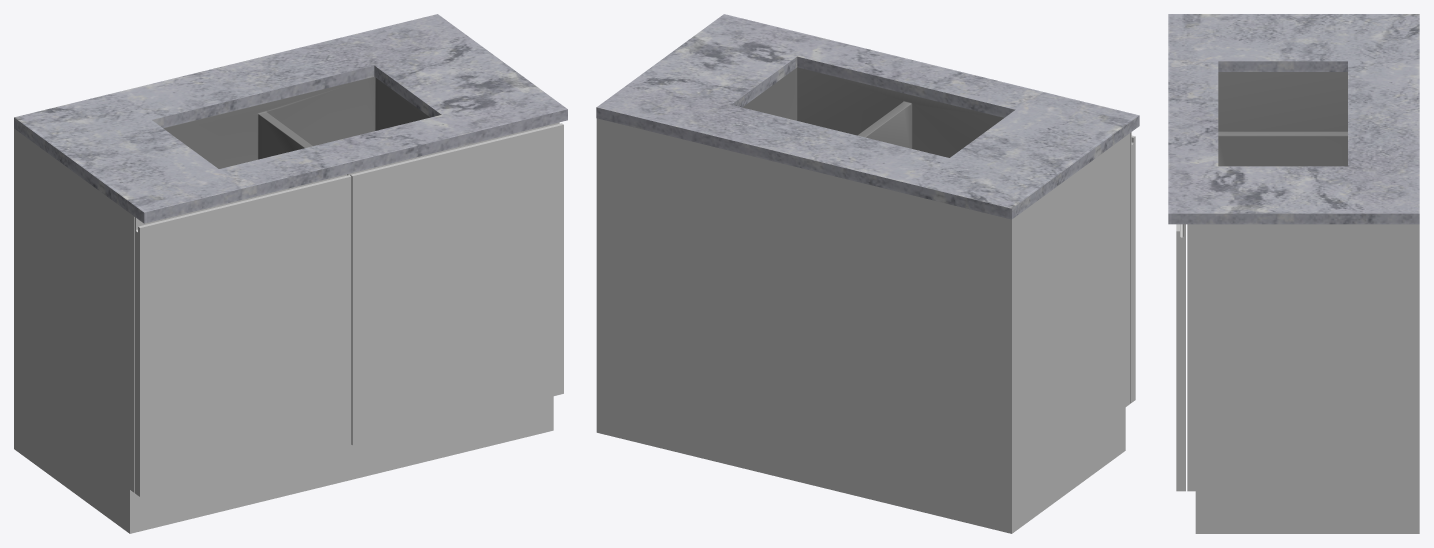
The model's file is kitchen_sink_1200.glb.
3 views of the same model, side by side, from view 1: azimuth 30°, elevation 25°; view 2: azimuth 150°, elevation 25°; view 3: azimuth 270°, elevation 25° (orthographic). The views are drawn at different scales.
Visible parts, largest first — view 1: Geom3D (×3); view 2: Geom3D (×3); view 3: Geom3D (×3).
Part boxes in pixels (x1=…): Geom3D (×3): x1=14, y1=14, x2=567, y2=533; Geom3D (×3): x1=596, y1=14, x2=1139, y2=533; Geom3D (×3): x1=1168, y1=14, x2=1419, y2=533.
Bounding box in the file's own units: 1.2 × 0.9 × 0.6401.
3 materials, 1 textured.
